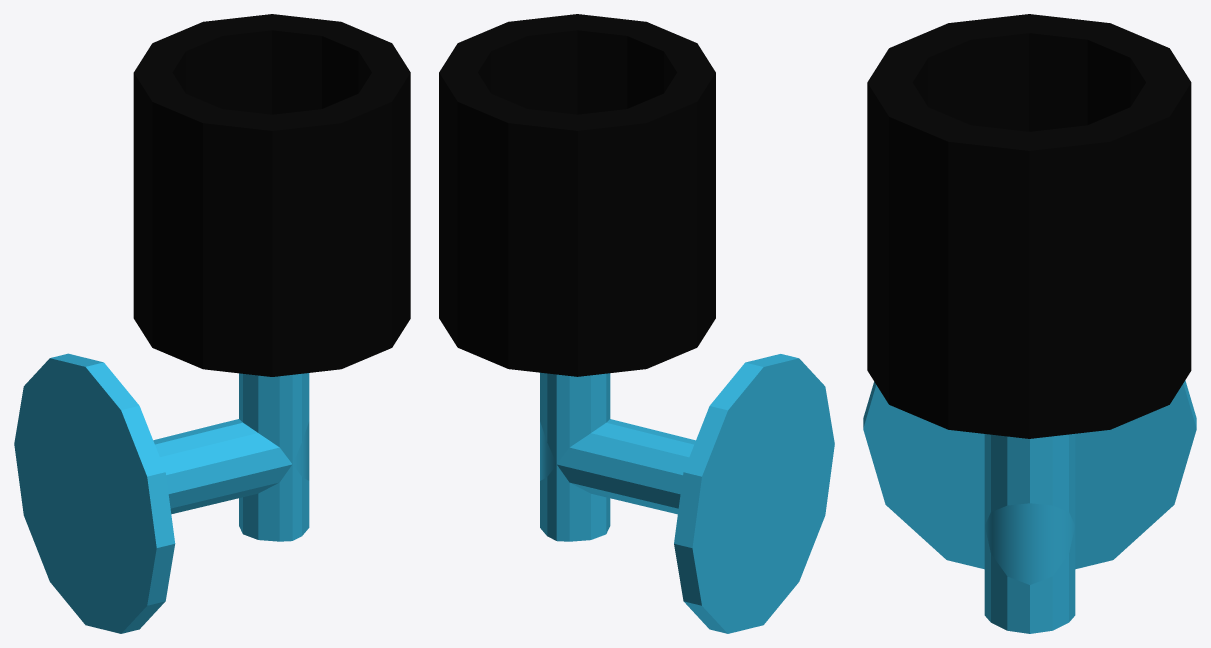
Rendered from Lampara Pared Pintada.FBX.
3 views of the same model, side by side, from view 1: azimuth 30°, elevation 25°; view 2: azimuth 150°, elevation 25°; view 3: azimuth 270°, elevation 25° (orthographic). The views are drawn at different scales.
Visible parts, largest first — view 1: Cylinder001; view 2: Cylinder001; view 3: Cylinder001.
Boxes of the visible parts, x1,y1,x2,y2 form: Cylinder001: (14,14,410,633); Cylinder001: (439,14,834,633); Cylinder001: (863,14,1196,633).
Size of the model in its own units: 37.62 by 59.51 by 30.3.
